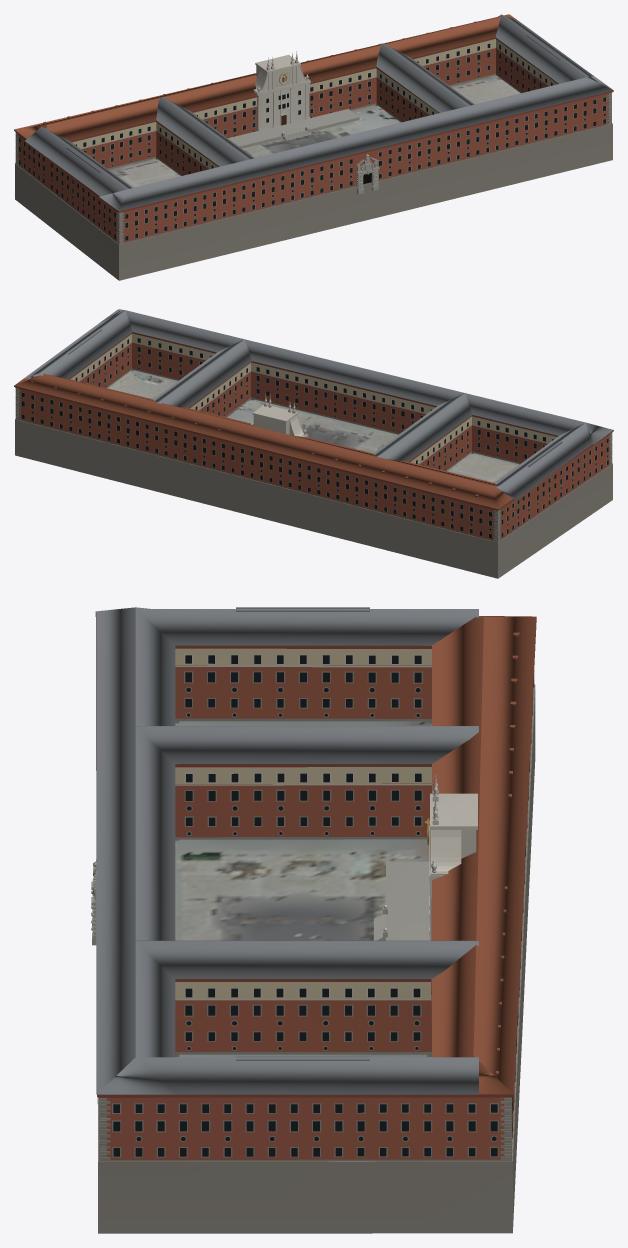
The picture shows the model from 3 angles, top to bottom: view 1: azimuth 30°, elevation 25°; view 2: azimuth 150°, elevation 25°; view 3: azimuth 270°, elevation 25°; orthographic projection. The views are drawn at different scales.
Visible parts, largest first — view 1: cuartel, roofs, courtyards; view 2: cuartel, roofs, courtyards; view 3: cuartel, roofs, courtyards.
Boxes of the visible parts, x1=… form: cuartel: x1=14, y1=37, x2=613, y2=280; roofs: x1=14, y1=14, x2=613, y2=211; courtyards: x1=109, y1=75, x2=520, y2=187; cuartel: x1=14, y1=332, x2=613, y2=578; roofs: x1=14, y1=309, x2=613, y2=509; courtyards: x1=107, y1=370, x2=519, y2=482; cuartel: x1=91, y1=611, x2=536, y2=1233; roofs: x1=96, y1=607, x2=536, y2=1094; courtyards: x1=175, y1=721, x2=431, y2=1057.
Bounding box in the file's own units: 230 × 46.5 × 89.7.
